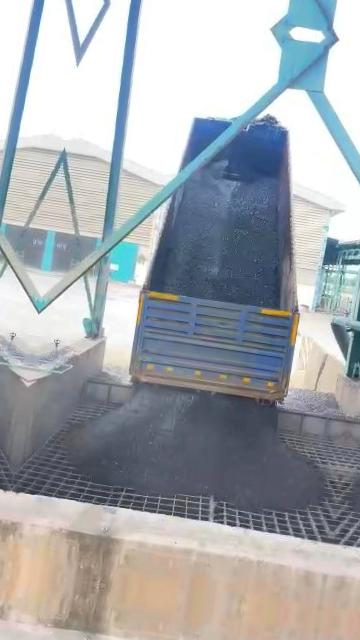gravel: (67, 386, 325, 511), (163, 161, 280, 307), (279, 389, 347, 418)
